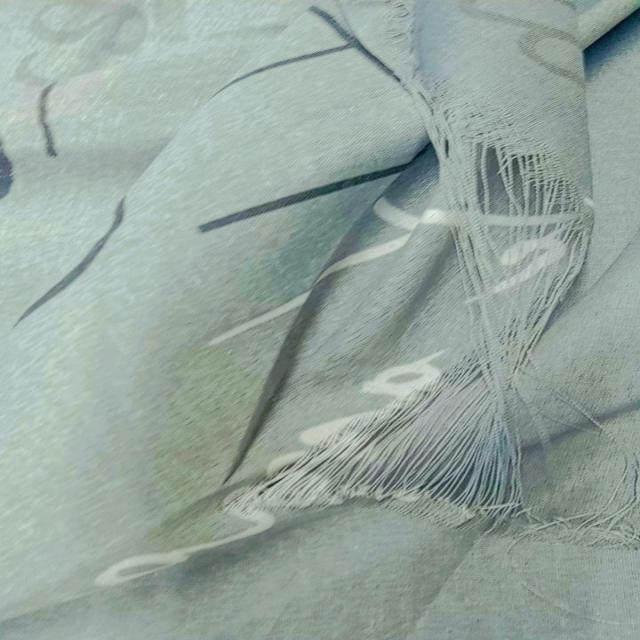cut: (265, 115, 589, 531)
